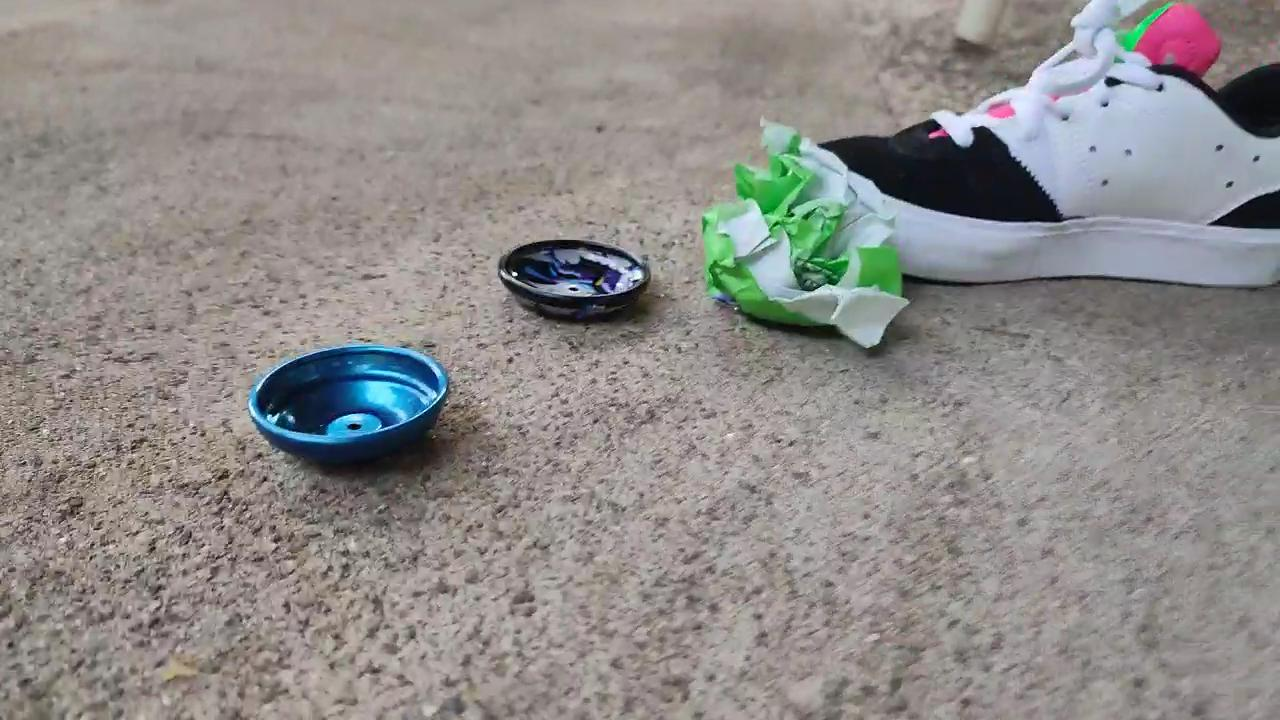Paper: (697, 110, 914, 355)
